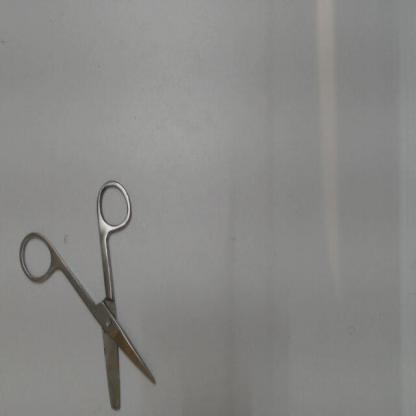Dressing Scissors: (11, 171, 161, 414)
